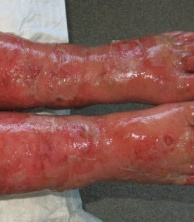SJS-TEN: (0, 101, 194, 197), (0, 28, 190, 116)
